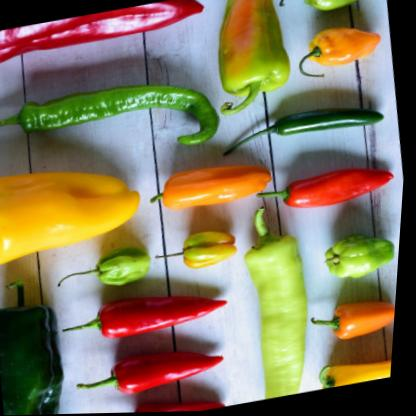--: (0, 63, 231, 178), (227, 203, 331, 403), (0, 0, 211, 78), (64, 284, 238, 348), (208, 99, 385, 161), (70, 344, 232, 405), (100, 392, 231, 414)
